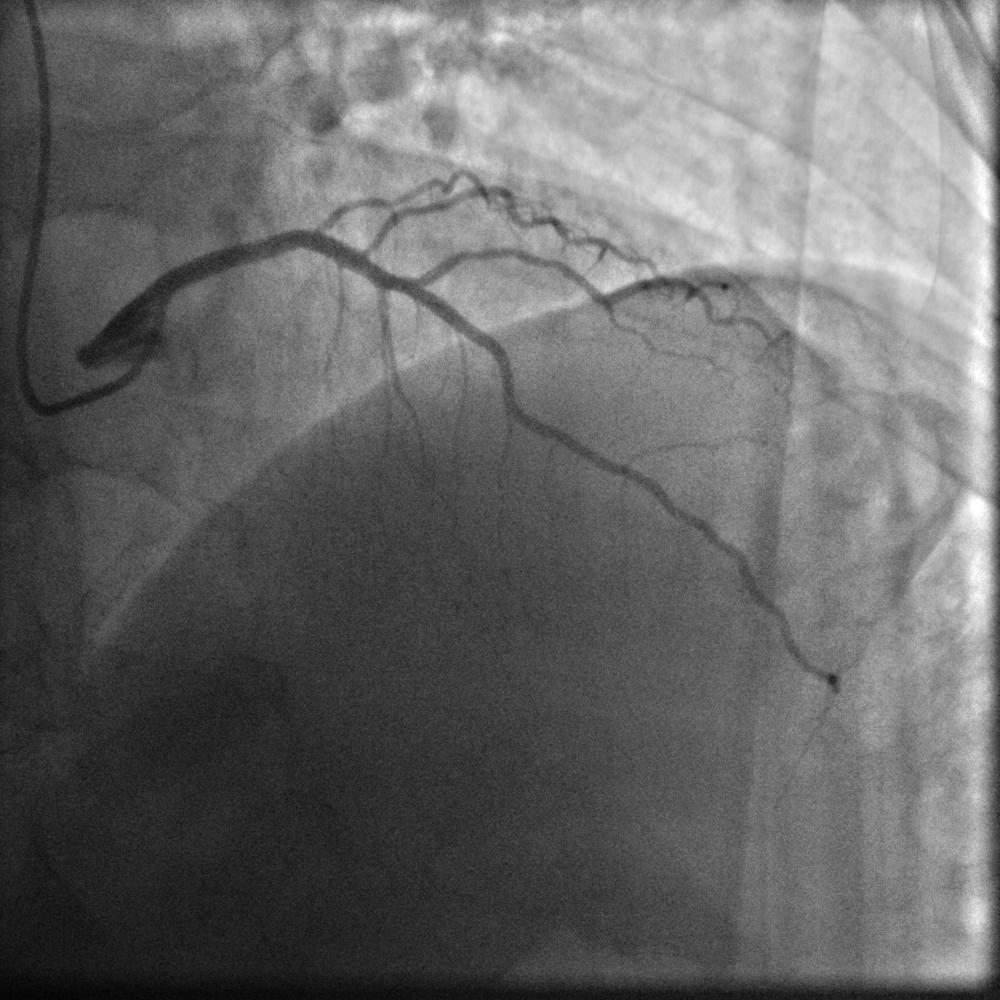Stenosis: (305, 207, 388, 251)
